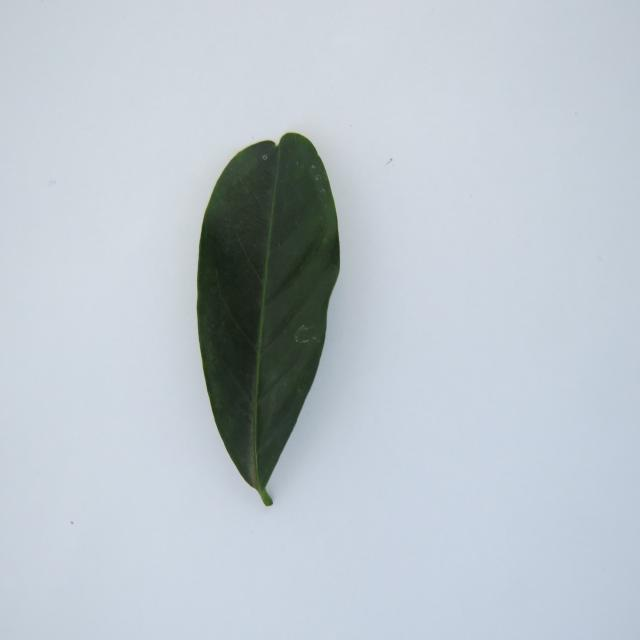DeficienciaNutricional-Boro: (198, 133, 340, 505)
